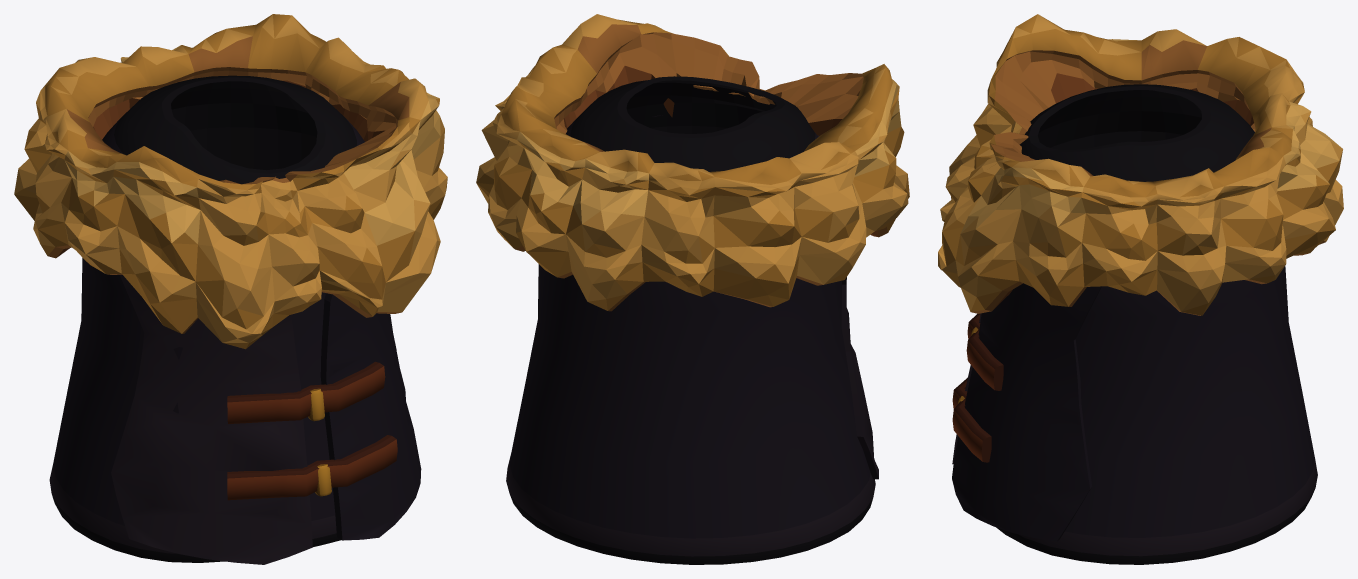
Rendered from WinterFurCollarOutfit.fbx.
3 views of the same model, side by side, from view 1: azimuth 30°, elevation 25°; view 2: azimuth 150°, elevation 25°; view 3: azimuth 270°, elevation 25° (orthographic). The views are drawn at different scales.
Visible parts, largest first — view 1: Winter coat and shearling, Winter collar | Interlocking fur; view 2: Winter coat and shearling, Winter collar | Interlocking fur; view 3: Winter coat and shearling, Winter collar | Interlocking fur.
Boxes of the visible parts, <box> form: Winter coat and shearling: <box>49,75,421,564</box>; Winter collar | Interlocking fur: <box>14,14,447,349</box>; Winter coat and shearling: <box>506,76,878,564</box>; Winter collar | Interlocking fur: <box>476,14,909,311</box>; Winter coat and shearling: <box>952,84,1317,564</box>; Winter collar | Interlocking fur: <box>938,14,1343,315</box>.
Bounding box in the file's own units: 0.4229 × 0.4537 × 0.4076.
Materials: 2 (2 with a texture image).
